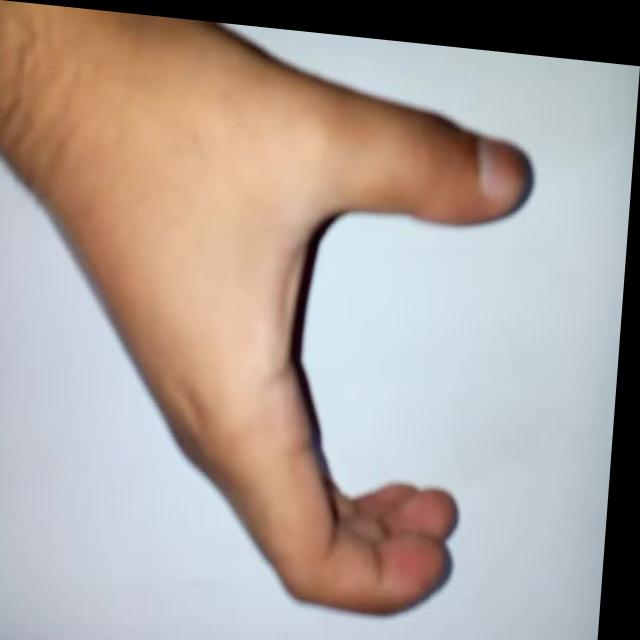C: (158, 74, 541, 626)
